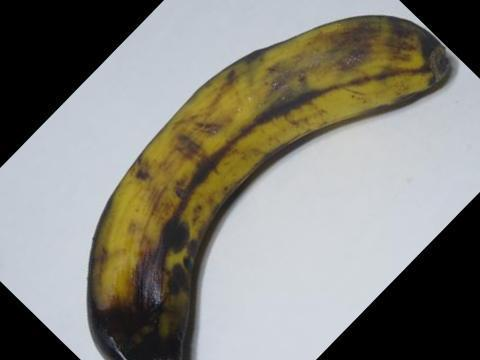overripe: (75, 7, 460, 359)
rotten: (91, 244, 211, 359)
